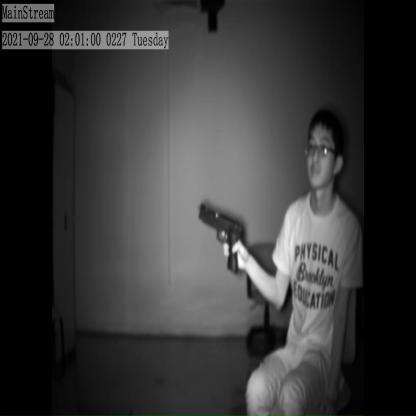weapon: (196, 197, 248, 280)
